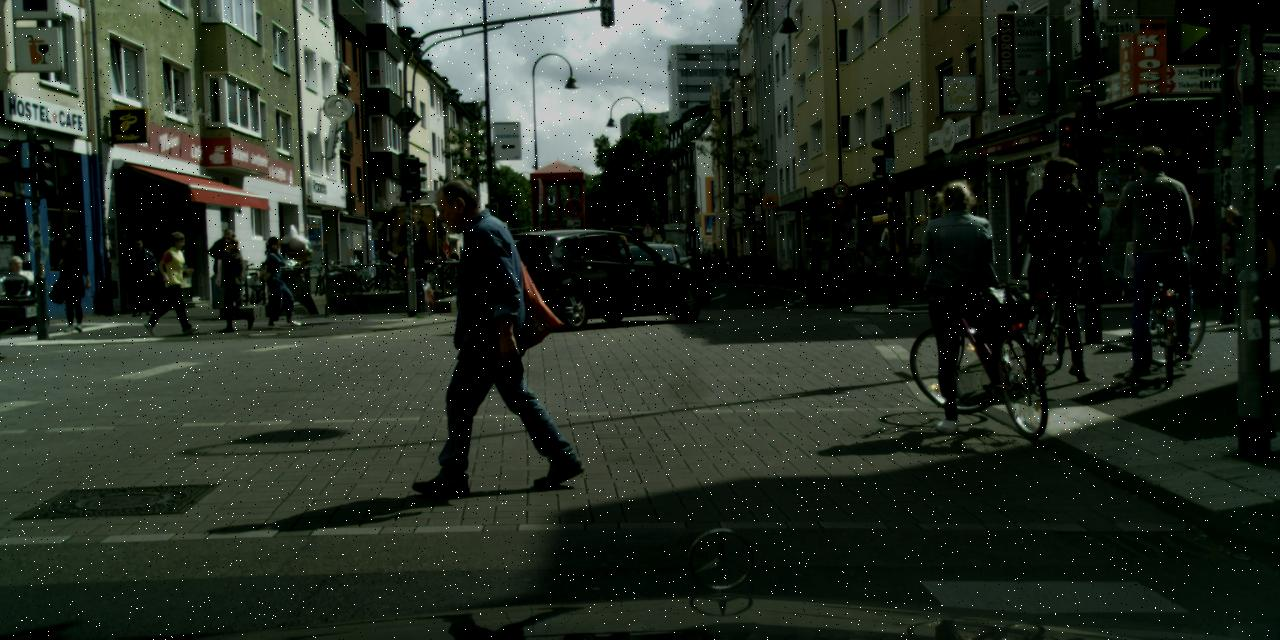ped: (414, 179, 540, 489), (1114, 144, 1204, 365), (924, 182, 1014, 402), (1019, 157, 1100, 357), (1244, 164, 1279, 333), (152, 230, 194, 332), (1080, 193, 1121, 295), (1178, 190, 1219, 290), (51, 233, 90, 331), (216, 232, 255, 327), (260, 235, 298, 326), (124, 236, 156, 313), (397, 241, 427, 315), (214, 228, 242, 299), (449, 247, 459, 275), (711, 245, 720, 268), (728, 247, 737, 268)
